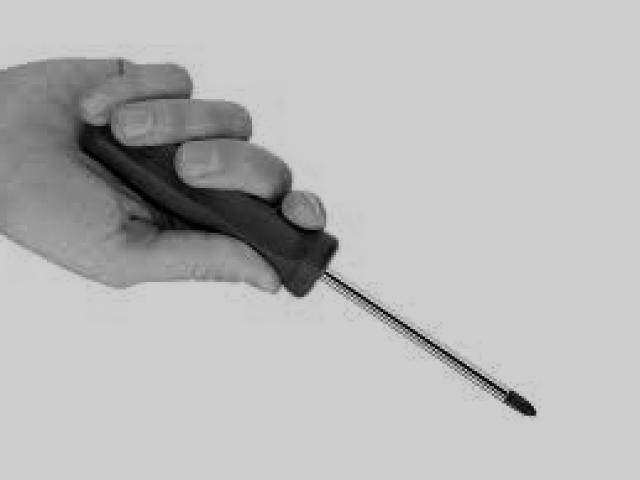Hand: (0, 61, 322, 292)
Screwdriver: (85, 125, 535, 416)
